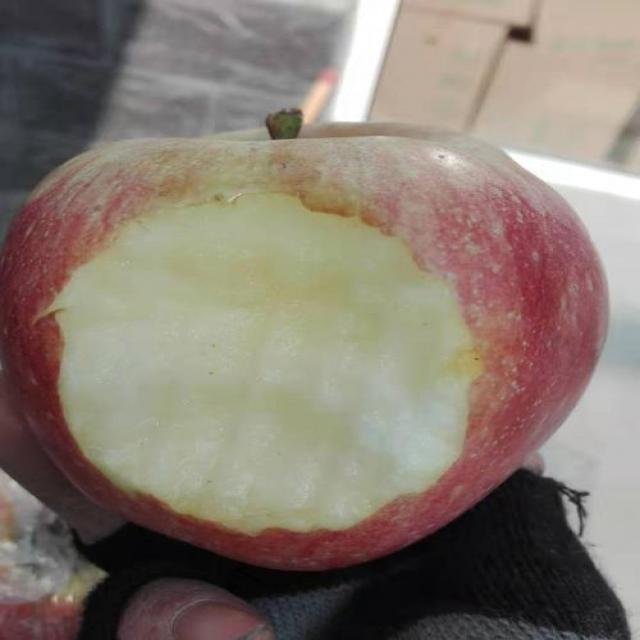Apple: (2, 120, 603, 572)
